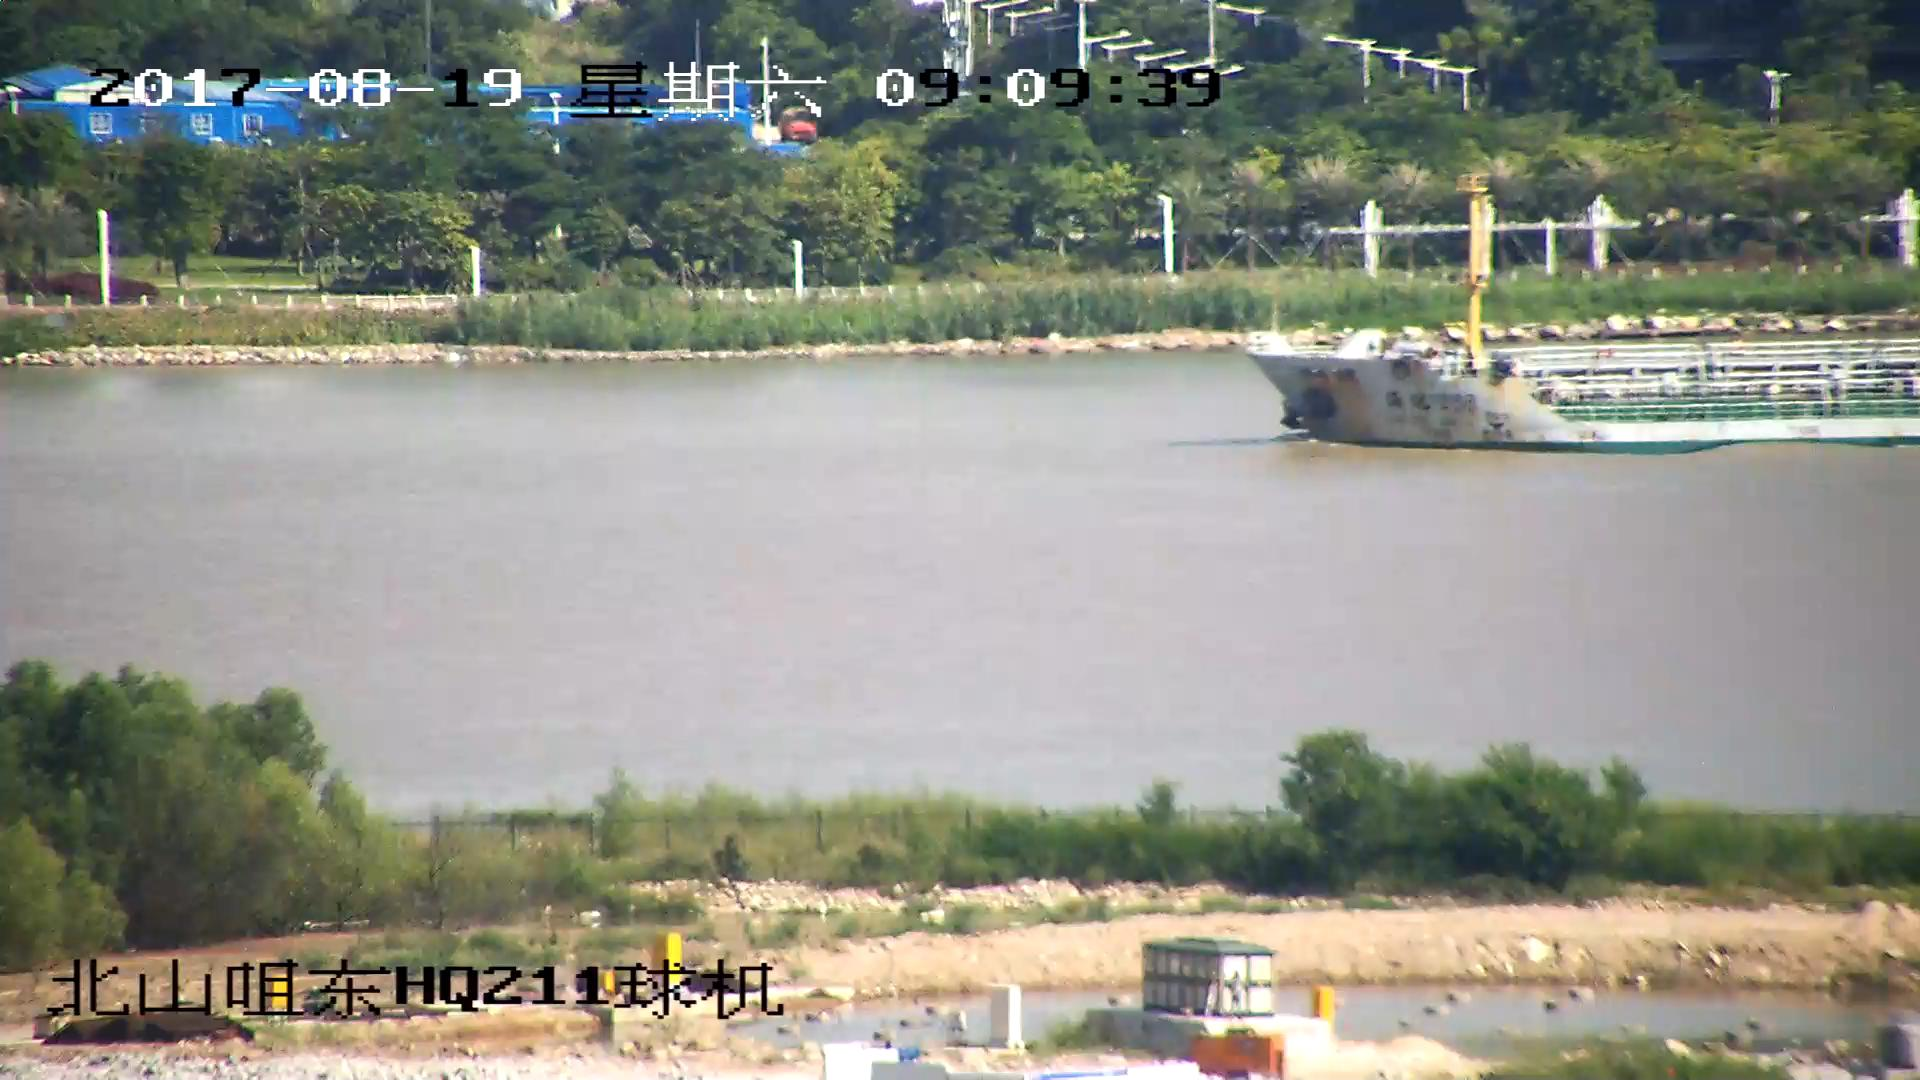general cargo ship: (1251, 328, 1920, 448)
